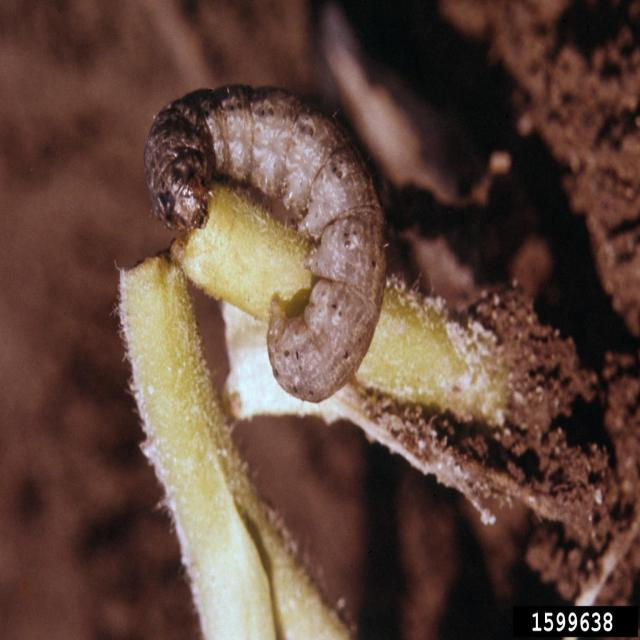cutworm: (137, 76, 399, 410)
